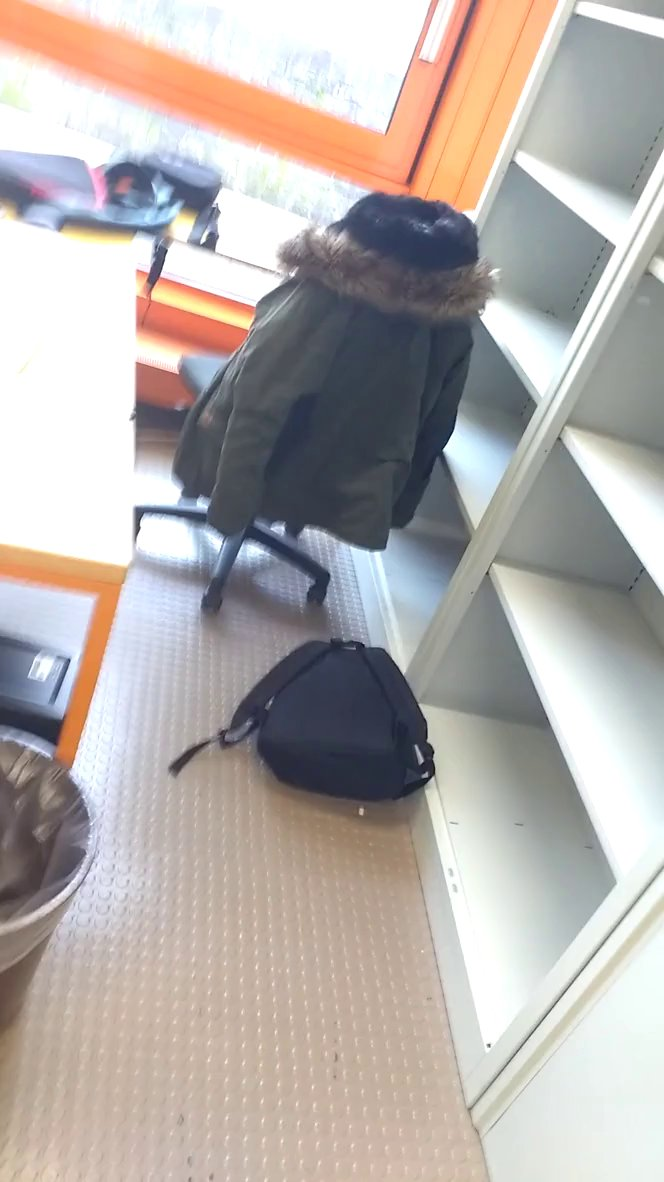bag: (164, 629, 447, 831)
